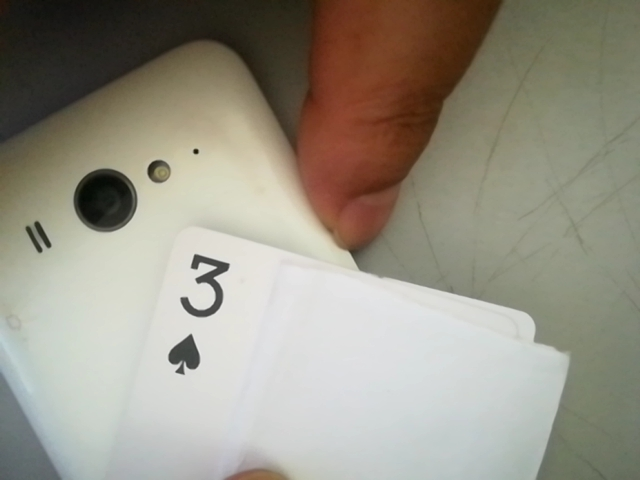ht 3: (159, 247, 245, 383)
